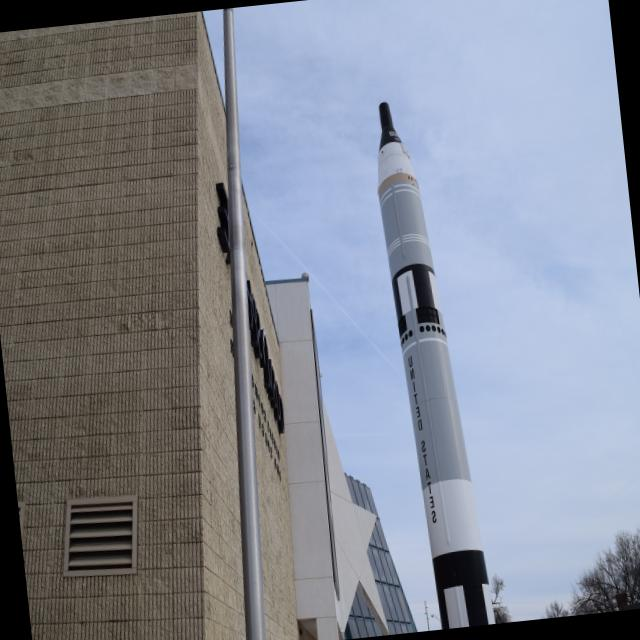rocket: (365, 92, 496, 631)
